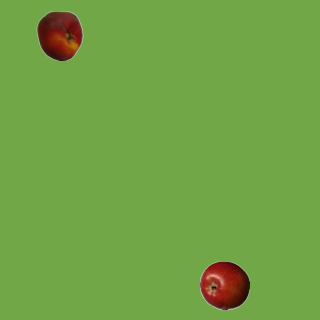Apple Braeburn: (199, 260, 249, 310)
Nectarine Flat: (34, 10, 84, 60)
